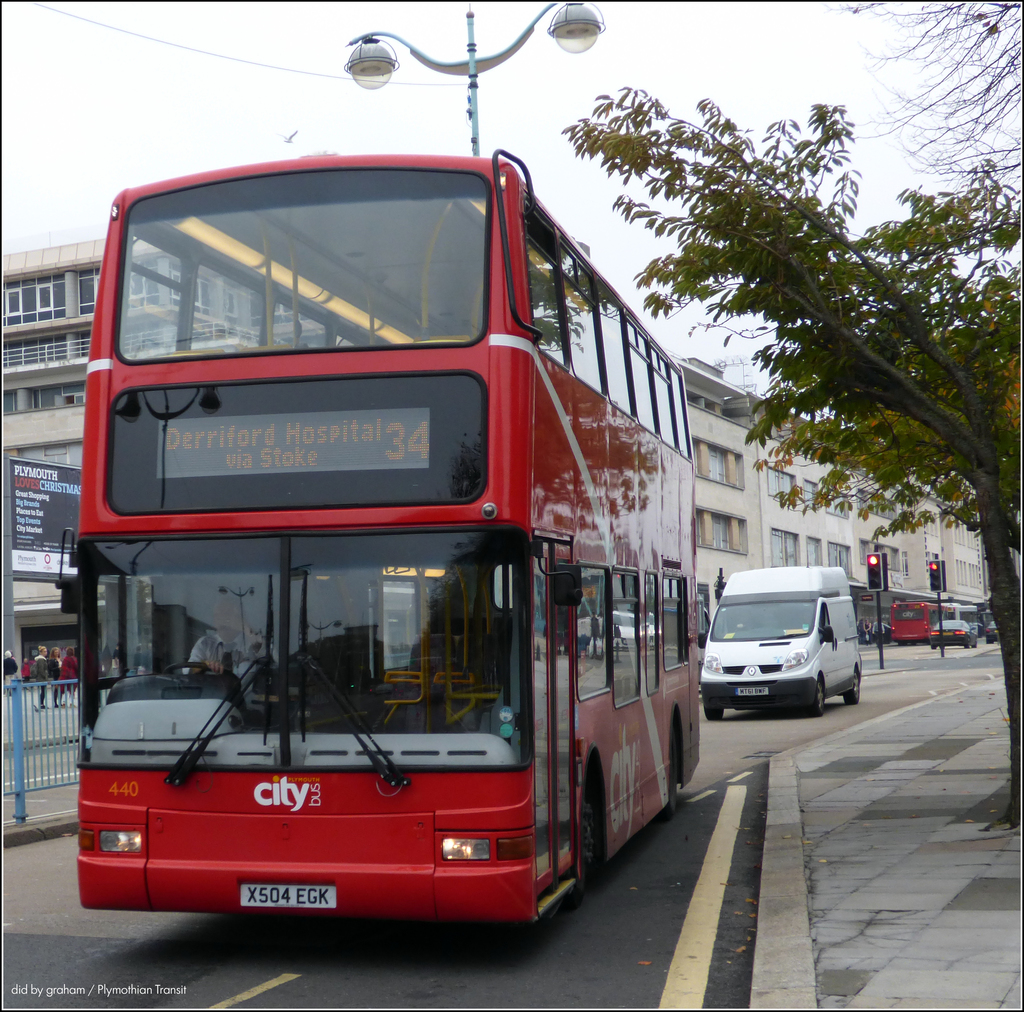Bus: (51, 145, 699, 930), (883, 599, 958, 645), (952, 599, 980, 640)
